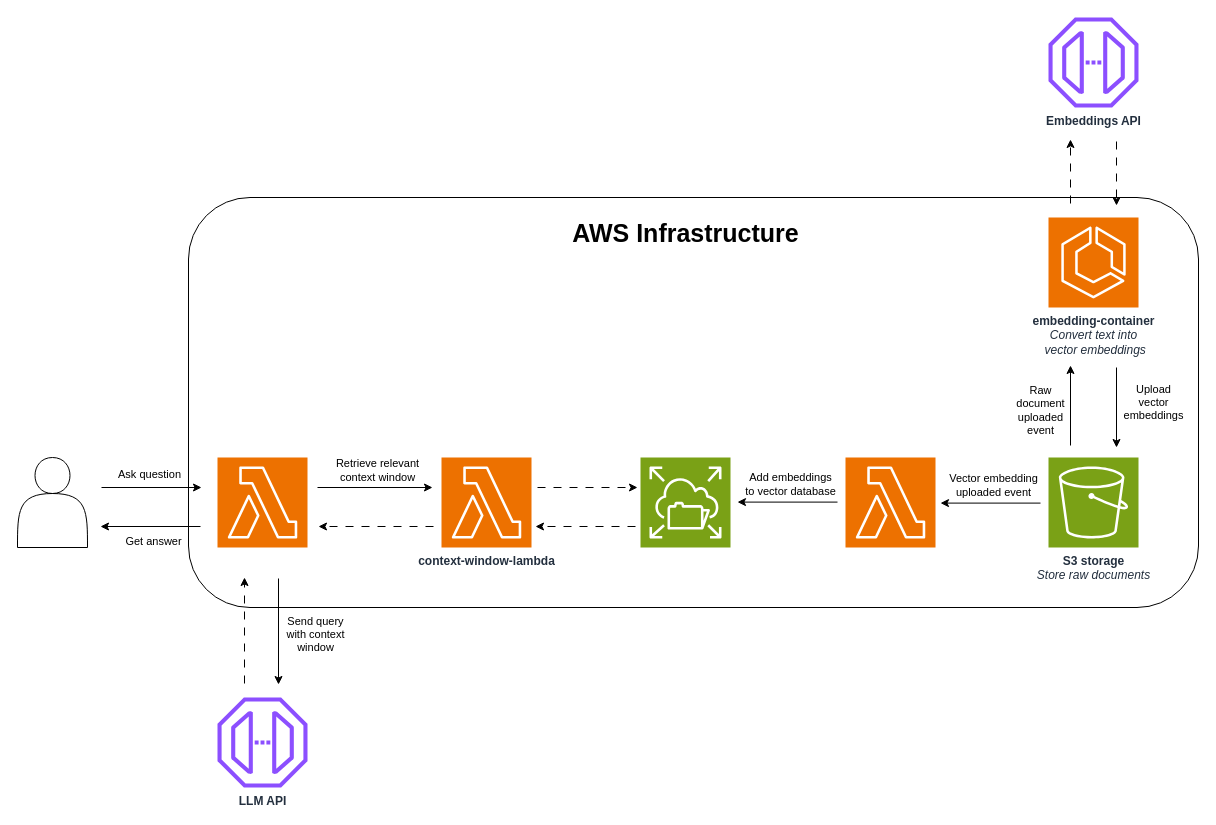
Some shapes in this 1216 by 825 pixel diagram are drawn without their labels. Each missing label, with the centre of its shape:
"EFS Host network-shared vector database" belongs at (x=685, y=502).
"user-query-lambda" belongs at (x=262, y=502).
"vectordb-appender" belongs at (x=890, y=502).
